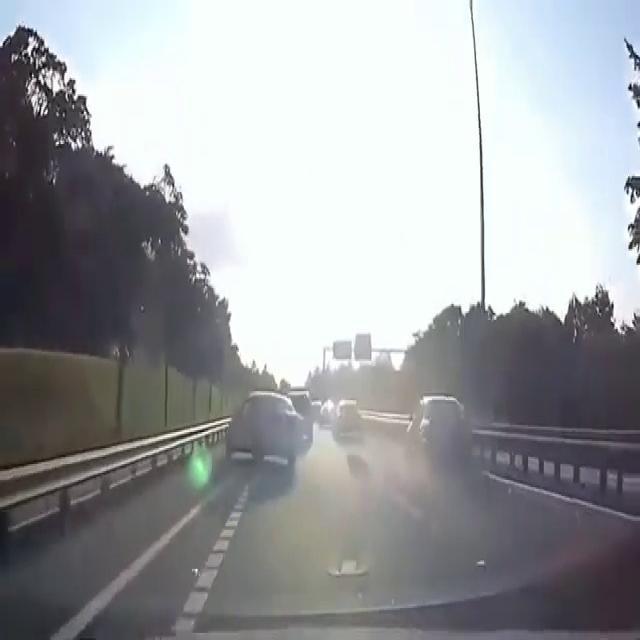moderate: (218, 377, 308, 473)
